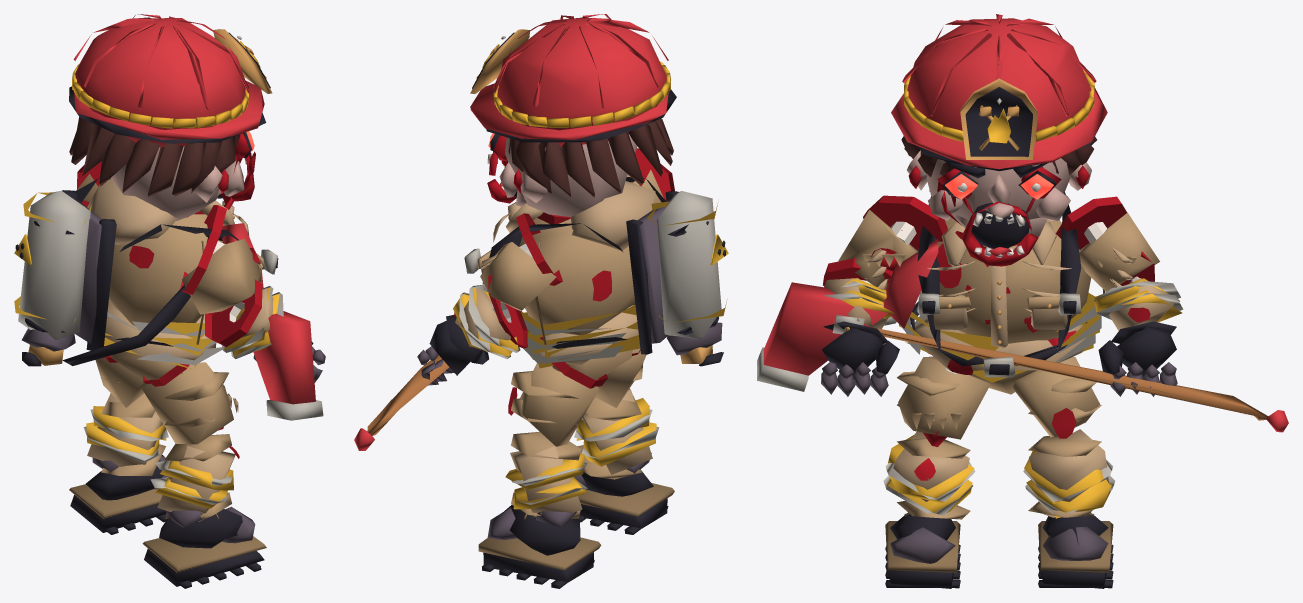
3 renders of one model, left to right at view 1: azimuth 30°, elevation 25°; view 2: azimuth 150°, elevation 25°; view 3: azimuth 270°, elevation 25°, orthographic. The views are drawn at different scales.
Visible parts, largest first — view 1: head, torso, backpackSocket, footR, weaponSocketR, shinR, shinL, legR, footL, armR, stump_foreArmR, foreArmR (+3 smaller); view 2: head, torso, backpackSocket, footL, shinL, shinR, legL, footR, armL, foreArmL, handL, weaponSocketR (+6 smaller); view 3: head, torso, weaponSocketR, shinL, shinR, footL, footR, legR, handR, legL, handL, armL (+6 smaller).
Boxes of the visible parts, x1=… form: head: x1=69, y1=14, x2=272, y2=220; torso: x1=62, y1=178, x2=278, y2=369; backpackSocket: x1=14, y1=190, x2=116, y2=366; footR: x1=142, y1=506, x2=266, y2=588; weaponSocketR: x1=222, y1=223, x2=323, y2=420; shinR: x1=150, y1=434, x2=239, y2=521; shinL: x1=83, y1=393, x2=168, y2=475; legR: x1=141, y1=362, x2=238, y2=444; footL: x1=69, y1=455, x2=168, y2=534; armR: x1=182, y1=239, x2=262, y2=314; stump_foreArmR: x1=205, y1=279, x2=262, y2=346; foreArmR: x1=221, y1=286, x2=283, y2=358; head: x1=470, y1=14, x2=676, y2=217; torso: x1=464, y1=177, x2=665, y2=368; backpackSocket: x1=626, y1=190, x2=728, y2=366; footL: x1=478, y1=505, x2=601, y2=588; shinL: x1=505, y1=431, x2=587, y2=518; shinR: x1=574, y1=388, x2=659, y2=479; legL: x1=508, y1=363, x2=599, y2=446; footR: x1=574, y1=452, x2=674, y2=534; armL: x1=480, y1=242, x2=556, y2=311; foreArmL: x1=453, y1=284, x2=520, y2=359; handL: x1=417, y1=315, x2=488, y2=385; weaponSocketR: x1=354, y1=355, x2=449, y2=450; head: x1=891, y1=14, x2=1107, y2=266; torso: x1=898, y1=190, x2=1105, y2=382; weaponSocketR: x1=757, y1=239, x2=1288, y2=432; shinL: x1=1023, y1=429, x2=1115, y2=518; shinR: x1=883, y1=431, x2=975, y2=519; footL: x1=1038, y1=512, x2=1113, y2=588; footR: x1=885, y1=512, x2=960, y2=588; legR: x1=897, y1=356, x2=990, y2=447; handR: x1=821, y1=321, x2=899, y2=396; legL: x1=1013, y1=356, x2=1101, y2=438; handL: x1=1098, y1=321, x2=1177, y2=396; armL: x1=1079, y1=212, x2=1159, y2=291.
Bounding box in the file's own units: 0.8794 × 1.8 × 1.6.
